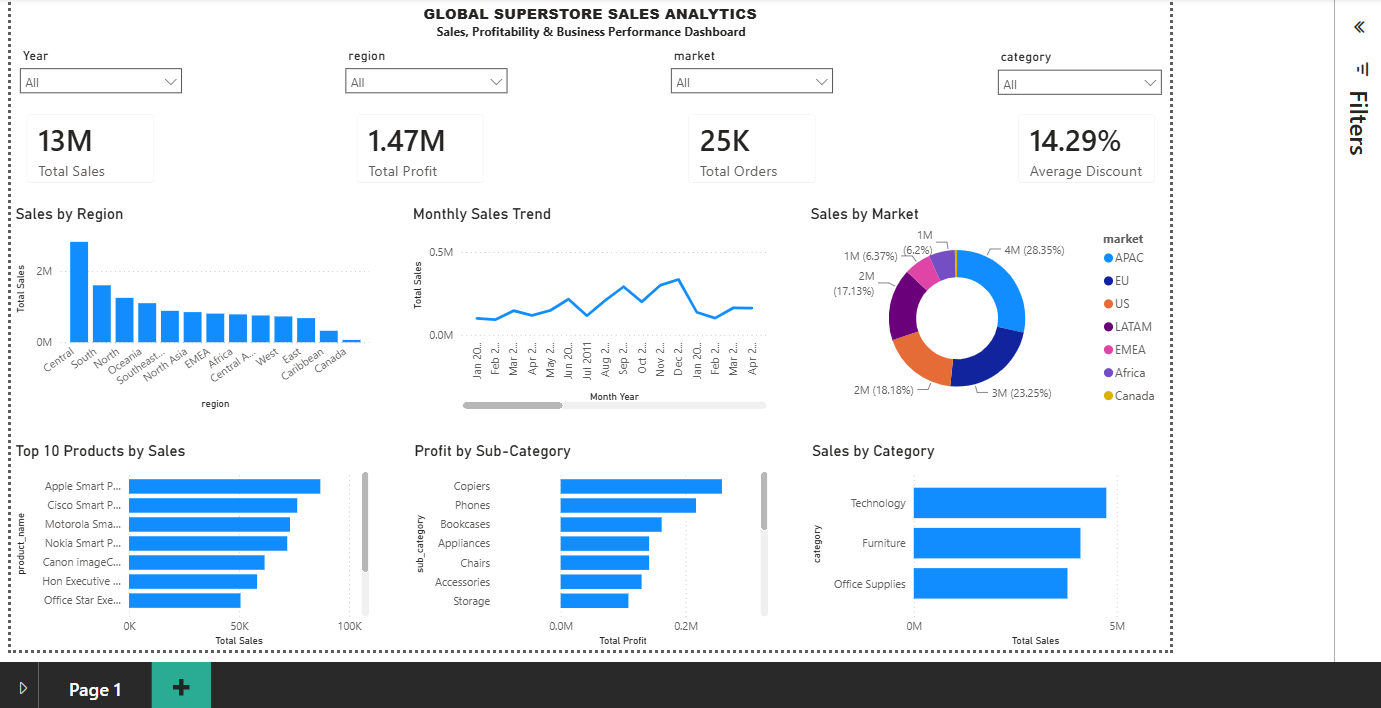

Layout of this report page (visuals, bound fields, positions):
{"tool":"powerbi","page":{"name":"Page 1","canvas":[1280,720],"ordinal":0},"visuals":[{"type":"cardVisual","fields":{"Data":["Dataset.Total Sales"]},"box":[0,111,175,110],"z":0},{"type":"cardVisual","fields":{"Data":["Dataset.Total Orders"]},"box":[730,111,175,110],"z":1000},{"type":"cardVisual","fields":{"Data":["Dataset.Total Profit"]},"box":[365,111,175,110],"z":2000},{"type":"cardVisual","fields":{"Data":["Dataset.Average Discount"]},"box":[1095,111,185,110],"z":3000},{"type":"clusteredColumnChart","title":"Sales by Region","fields":{"Category":["Dataset.region"],"Y":["Dataset.Total Sales"]},"box":[0,228.6,400.9,230.3],"z":4000},{"type":"donutChart","title":"Sales by Market","fields":{"Category":["Dataset.market"],"Y":["Dataset.Total Sales"]},"box":[878.5,228.6,400,230.3],"z":5000},{"type":"lineChart","title":"Monthly Sales Trend","fields":{"Y":["Dataset.Total Sales"],"Category":["Dataset.Month Year"]},"box":[439.7,228.6,400,230],"z":6000},{"type":"clusteredBarChart","title":"Sales by Category","fields":{"Category":["Dataset.category"],"Y":["Dataset.Total Sales"]},"box":[880,489.7,400,230.3],"z":7000},{"type":"clusteredBarChart","title":"Profit by Sub-Category","fields":{"Category":["Dataset.sub_category"],"Y":["Dataset.Total Profit"]},"box":[440,489.7,400,230.3],"z":8000},{"type":"clusteredBarChart","title":"Top 10 Products by Sales","fields":{"Y":["Dataset.Total Sales"],"Category":["Dataset.product_name"]},"box":[0,490,400,230],"z":9000},{"type":"slicer","fields":{"Values":["Dataset.order_date.Variation.Date Hierarchy.Year"]},"box":[0,49.7,198.8,61.3],"z":10000},{"type":"slicer","fields":{"Values":["Dataset.region"]},"box":[359.9,49.7,198.8,61.3],"z":11000},{"type":"slicer","fields":{"Values":["Dataset.market"]},"box":[719.7,49.7,198.8,61.3],"z":12000},{"type":"slicer","fields":{"Values":["Dataset.category"]},"box":[1079.6,51.4,200.4,59.6],"z":13000},{"type":"textbox","box":[450.6,0,422.4,56.3],"z":14000}]}

Visuals, with their boxes on the page's 1280x720 design canvas (x1, y1, x2, y2). These are canvas units, not pixel positions in the 1381x708 screenshot, which may show the page scaled, cropped or inside an application window:
cardVisual - Dataset.Total Sales: box(0, 111, 175, 221)
cardVisual - Dataset.Total Orders: box(730, 111, 905, 221)
cardVisual - Dataset.Total Profit: box(365, 111, 540, 221)
cardVisual - Dataset.Average Discount: box(1095, 111, 1280, 221)
"Sales by Region" clusteredColumnChart: box(0, 229, 401, 459)
"Sales by Market" donutChart: box(878, 229, 1278, 459)
"Monthly Sales Trend" lineChart: box(440, 229, 840, 459)
"Sales by Category" clusteredBarChart: box(880, 490, 1280, 720)
"Profit by Sub-Category" clusteredBarChart: box(440, 490, 840, 720)
"Top 10 Products by Sales" clusteredBarChart: box(0, 490, 400, 720)
slicer - Dataset.order_date.Variation.Date Hierarchy.Year: box(0, 50, 199, 111)
slicer - Dataset.region: box(360, 50, 559, 111)
slicer - Dataset.market: box(720, 50, 918, 111)
slicer - Dataset.category: box(1080, 51, 1280, 111)
textbox: box(451, 0, 873, 56)
